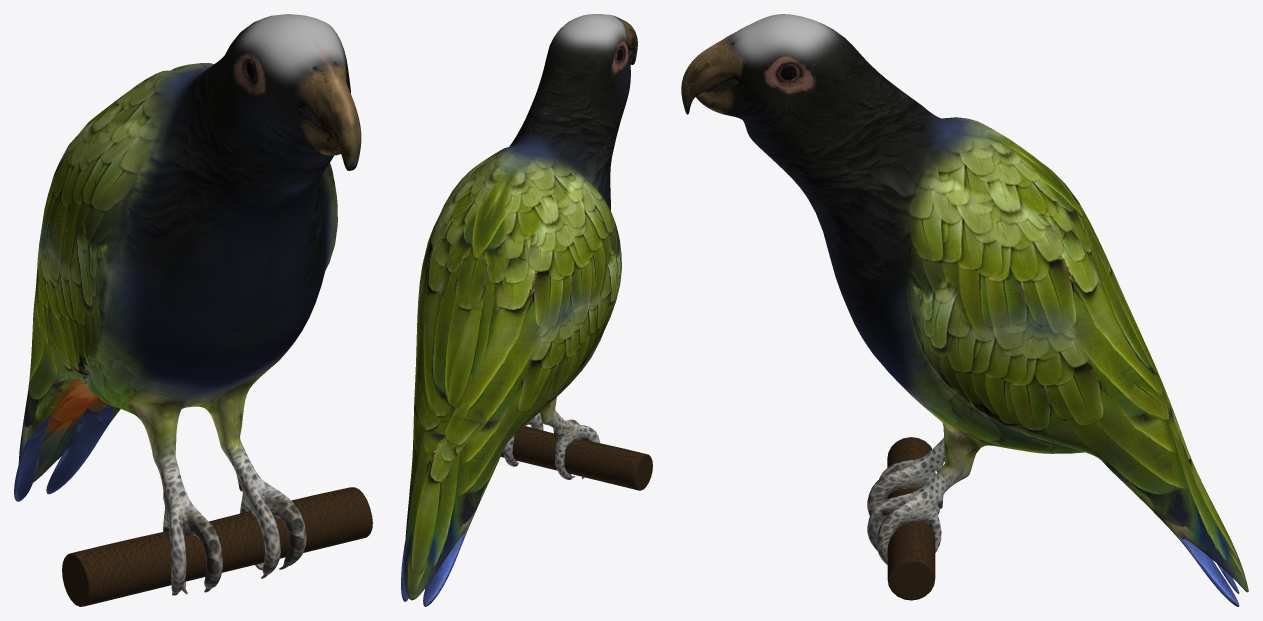
Rendered from Chucuyo.glb.
The picture shows the model from 3 angles, left to right: view 1: azimuth 30°, elevation 25°; view 2: azimuth 150°, elevation 25°; view 3: azimuth 270°, elevation 25°; orthographic projection. The views are drawn at different scales.
Parts seen in each view (by area): view 1: Chucuyo; view 2: Chucuyo; view 3: Chucuyo.
Part boxes in pixels (x1,y1,x2,y2): Chucuyo: (14,14,372,606); Chucuyo: (401,14,652,606); Chucuyo: (681,14,1248,606).
Size of the model in its own units: 0.8966 by 2.01 by 1.78.
2 materials, 2 textured.
